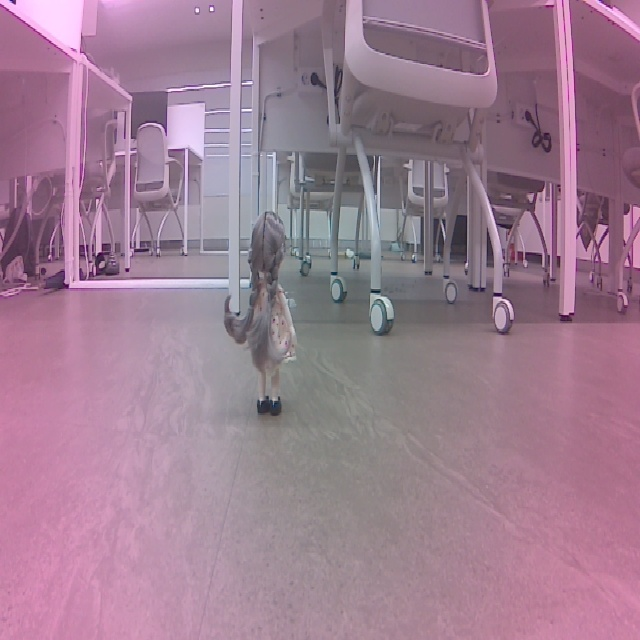장애물: (288, 185, 379, 397)
